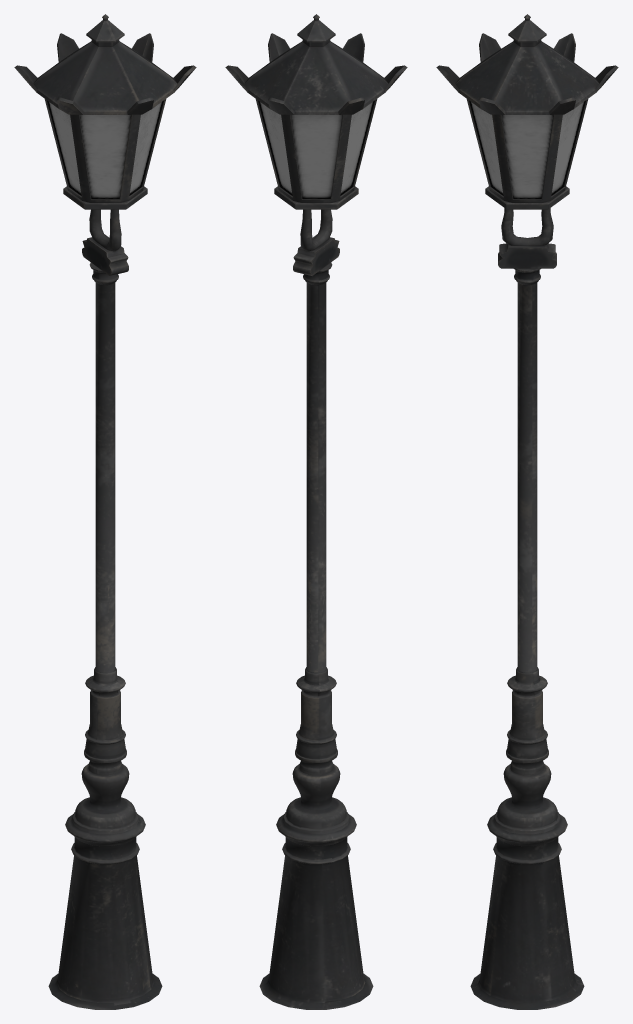
The model's file is vintage_street_lamp_1d0bd5cb.fbx.
The picture shows the model from 3 angles, left to right: view 1: azimuth 30°, elevation 25°; view 2: azimuth 150°, elevation 25°; view 3: azimuth 270°, elevation 25°; orthographic projection.
Visible parts, largest first — view 1: vintage_street_lamp_1d0bd5cb; view 2: vintage_street_lamp_1d0bd5cb; view 3: vintage_street_lamp_1d0bd5cb.
Boxes of the visible parts, left/top/right/bottom form: vintage_street_lamp_1d0bd5cb: left=14, top=14, right=196, bottom=1009; vintage_street_lamp_1d0bd5cb: left=225, top=14, right=407, bottom=1009; vintage_street_lamp_1d0bd5cb: left=436, top=14, right=618, bottom=1009.
Size of the model in its own units: 0.2578 by 1.75 by 0.2977.
Materials: 1 (1 with a texture image).
